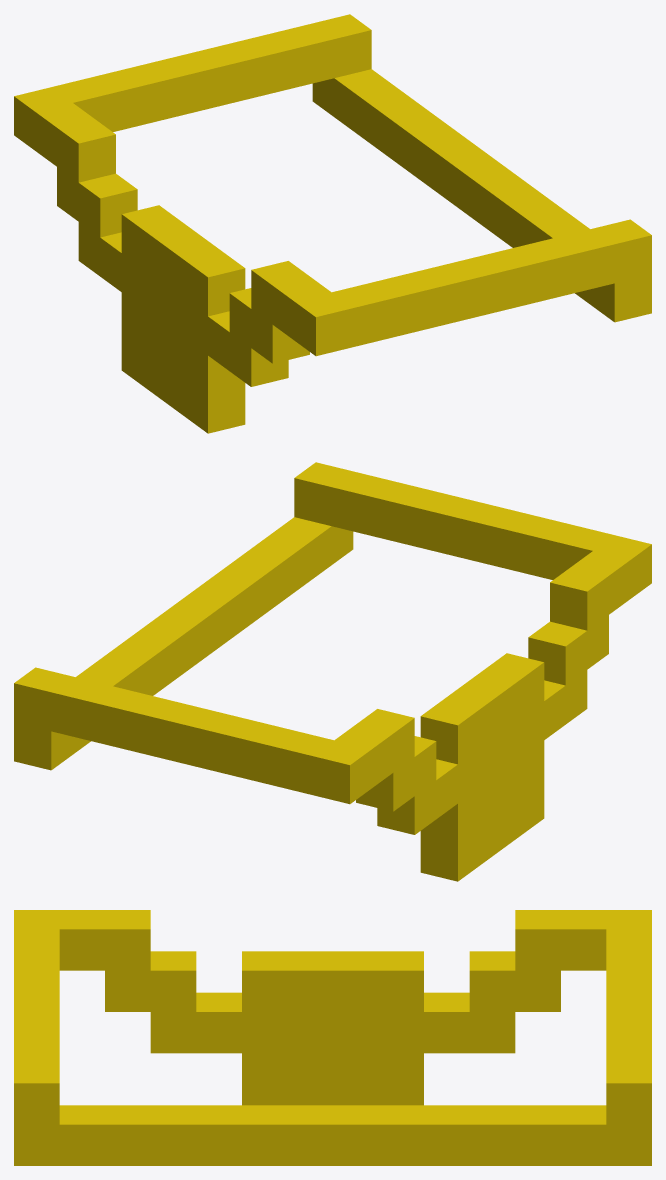
The model's file is chain_button.gltf.
3 renders of one model, top to bottom at view 1: azimuth 30°, elevation 25°; view 2: azimuth 150°, elevation 25°; view 3: azimuth 270°, elevation 25°, orthographic. The views are drawn at different scales.
Visible parts, largest first — view 1: cube, cube_7, cube_1, cube_2, cube_3, cube_5, cube_4, cube_9, cube_8, cube_10, cube_6, cube_11; view 2: cube_1, cube_7, cube, cube_2, cube_4, cube_8, cube_3, cube_6, cube_5, cube_11, cube_9, cube_10; view 3: cube_2, cube_7, cube, cube_1, cube_3, cube_4, cube_6, cube_9, cube_5, cube_8, cube_10, cube_11.
Part boxes in pixels (<box>): cube: <box>294,219,651,356</box>; cube_7: <box>121,205,245,433</box>; cube_1: <box>14,14,371,150</box>; cube_2: <box>334,69,592,306</box>; cube_3: <box>35,103,115,182</box>; cube_5: <box>57,167,137,237</box>; cube_4: <box>251,261,330,339</box>; cube_9: <box>208,311,288,386</box>; cube_8: <box>229,288,309,363</box>; cube_10: <box>593,274,651,322</box>; cube_6: <box>78,222,121,291</box>; cube_11: <box>312,78,334,116</box>; cube_1: <box>14,667,371,804</box>; cube_7: <box>420,653,544,881</box>; cube: <box>294,462,651,598</box>; cube_2: <box>73,517,331,754</box>; cube_4: <box>550,551,630,630</box>; cube_8: <box>528,615,608,685</box>; cube_3: <box>335,709,414,787</box>; cube_6: <box>377,759,457,834</box>; cube_5: <box>356,736,436,811</box>; cube_11: <box>14,722,72,770</box>; cube_9: <box>544,670,587,739</box>; cube_10: <box>331,526,353,564</box>; cube_2: <box>59,1105,606,1165</box>; cube_7: <box>242,951,423,1105</box>; cube: <box>14,910,59,1124</box>; cube_1: <box>606,910,651,1124</box>; cube_3: <box>515,910,606,970</box>; cube_4: <box>59,910,150,970</box>; cube_6: <box>424,992,515,1053</box>; cube_9: <box>150,992,241,1053</box>; cube_5: <box>469,951,560,1011</box>; cube_8: <box>105,951,196,1011</box>; cube_10: <box>14,1124,59,1165</box>; cube_11: <box>606,1124,651,1165</box>.
Bounding box in the file's own units: 0.4545 × 0.2525 × 0.7071.
